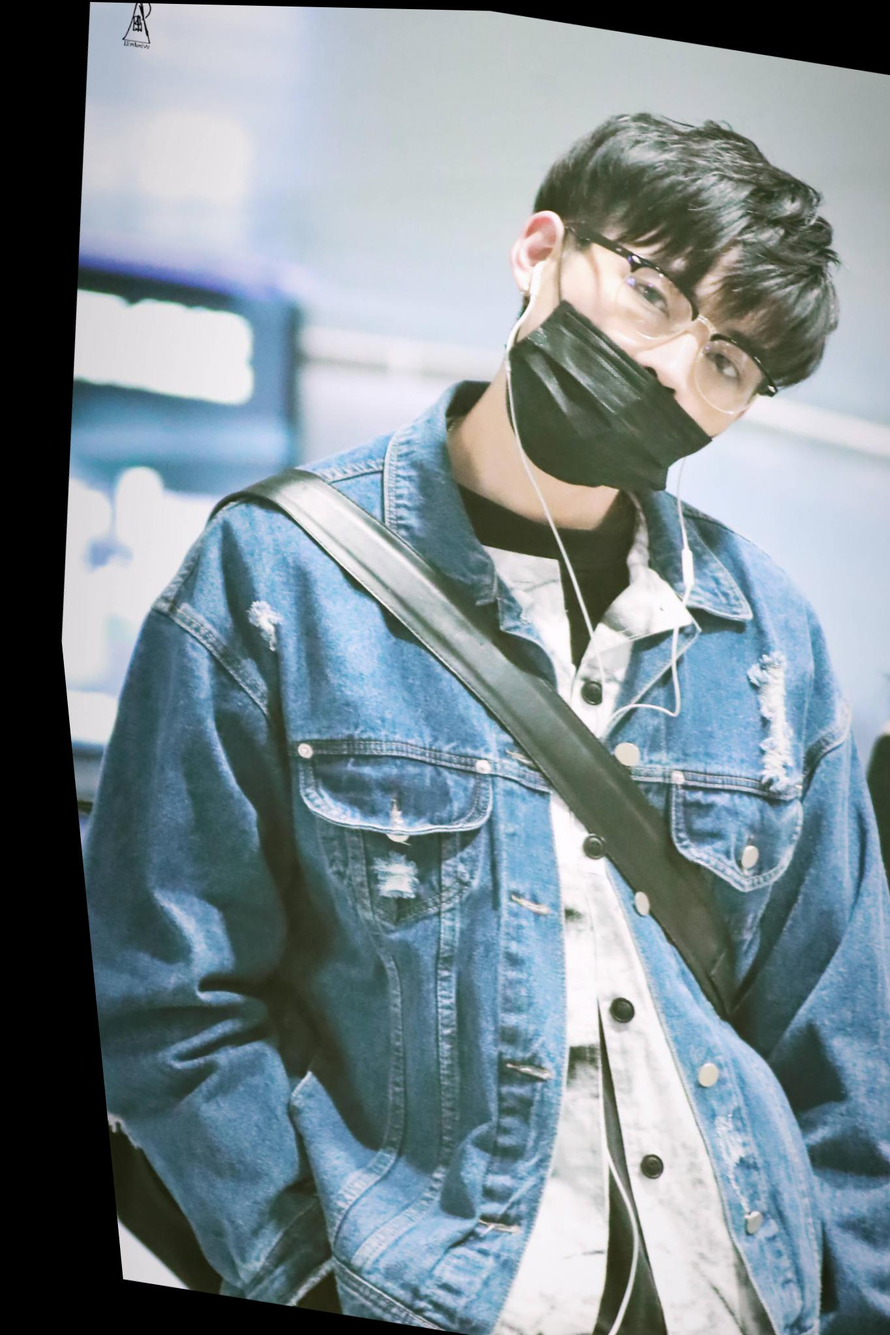WRONG: (479, 234, 781, 507)
